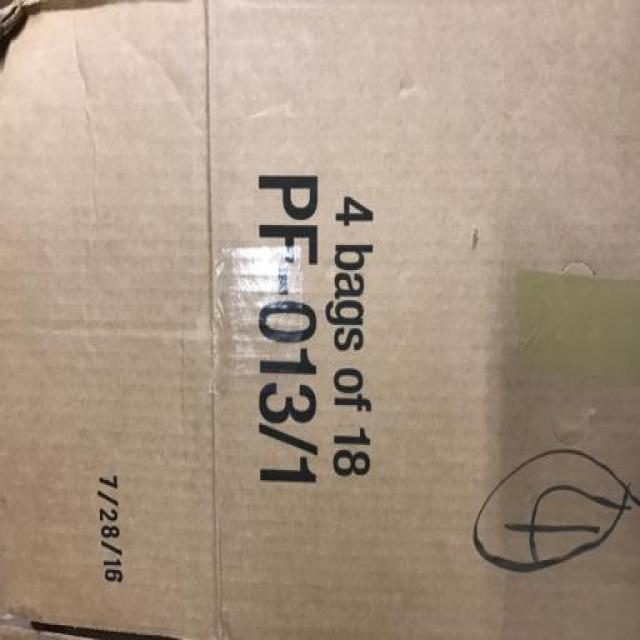cardboard: (2, 1, 640, 639)
